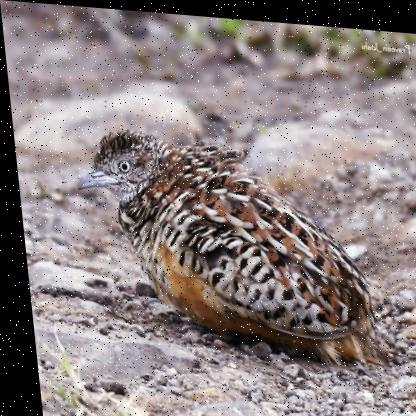Burung: (68, 123, 388, 358)
